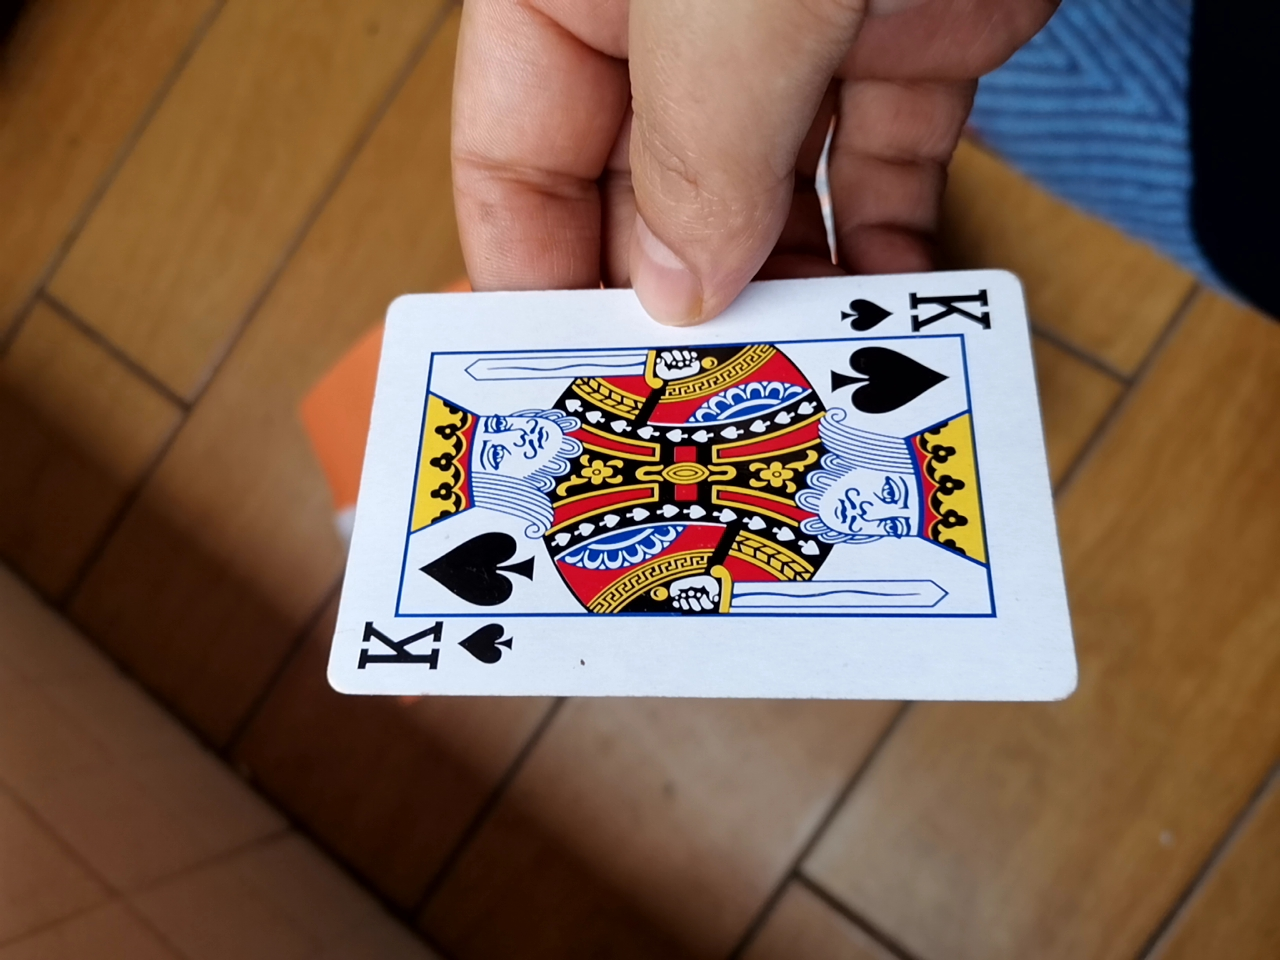ht k: (299, 260, 1072, 711)
